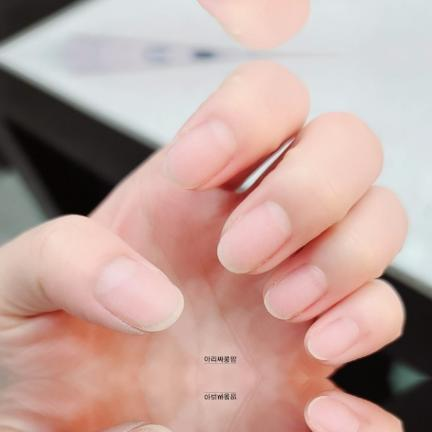Nail: (93, 255, 183, 332), (164, 119, 238, 191), (217, 201, 291, 272), (264, 264, 327, 319), (306, 316, 362, 360), (306, 395, 362, 432), (131, 424, 173, 432)
